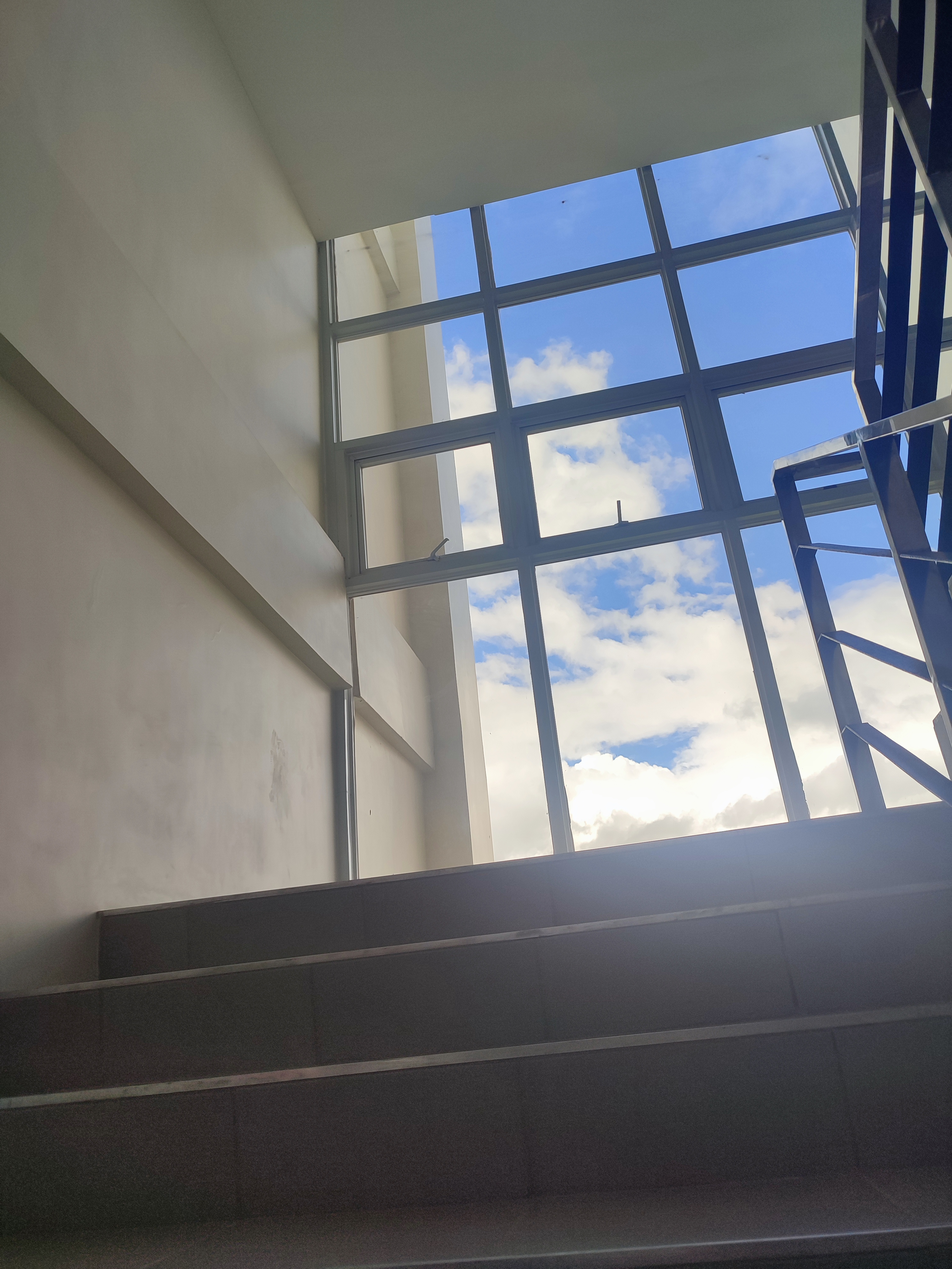Staircase: (0, 803, 952, 1269)
